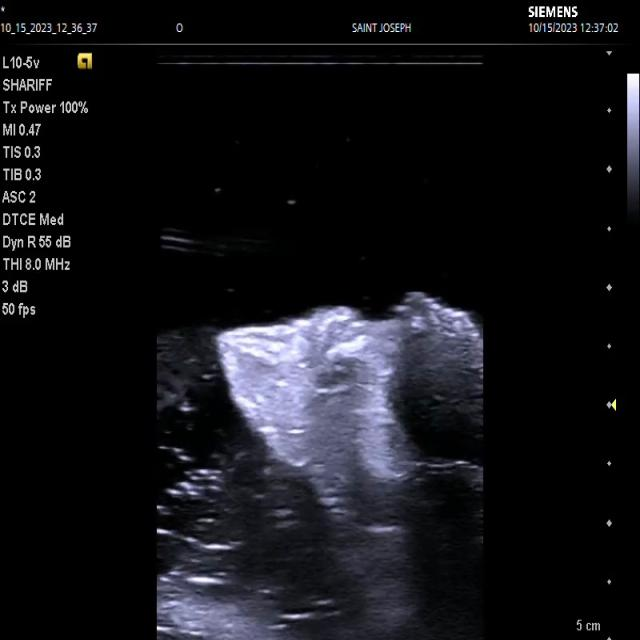tissue: (214, 294, 484, 640)
